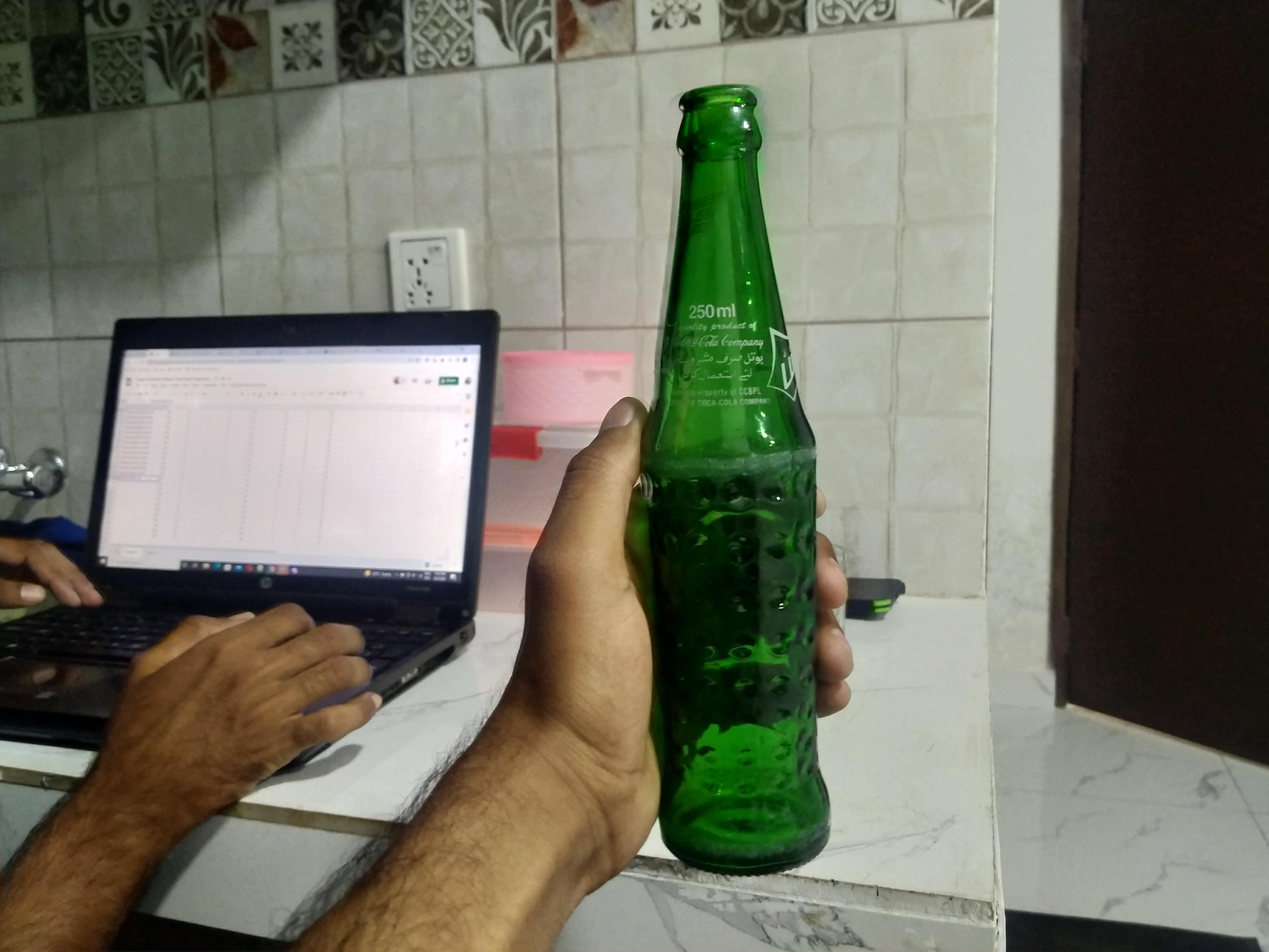bottle-glass: (641, 83, 837, 874)
